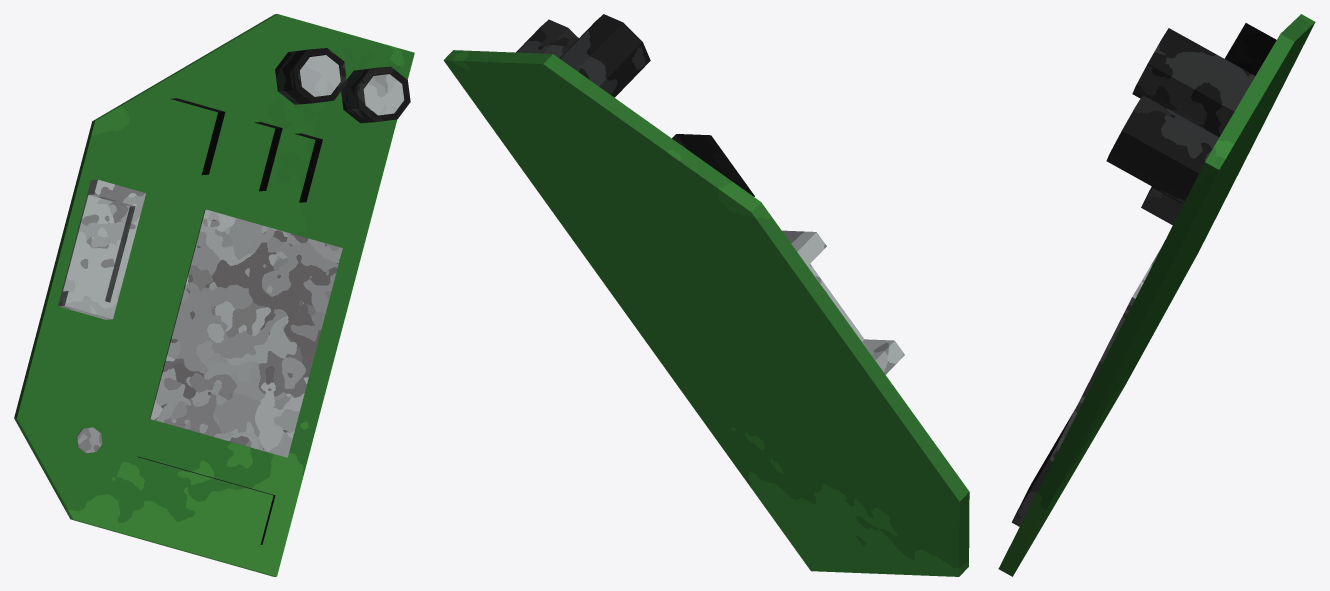
Rendered from Electronics Export.glb.
The picture shows the model from 3 angles, left to right: view 1: azimuth 30°, elevation 25°; view 2: azimuth 150°, elevation 25°; view 3: azimuth 270°, elevation 25°; orthographic projection. The views are drawn at different scales.
Parts seen in each view (by area): view 1: Cube.009; view 2: Cube.009; view 3: Cube.009.
Boxes of the visible parts, bbox=[...] form: Cube.009: bbox=[14, 14, 414, 576]; Cube.009: bbox=[443, 14, 969, 576]; Cube.009: bbox=[998, 14, 1315, 576].
Size of the model in its own units: 2.28 by 2.47 by 1.16.
1 material, 1 textured.
